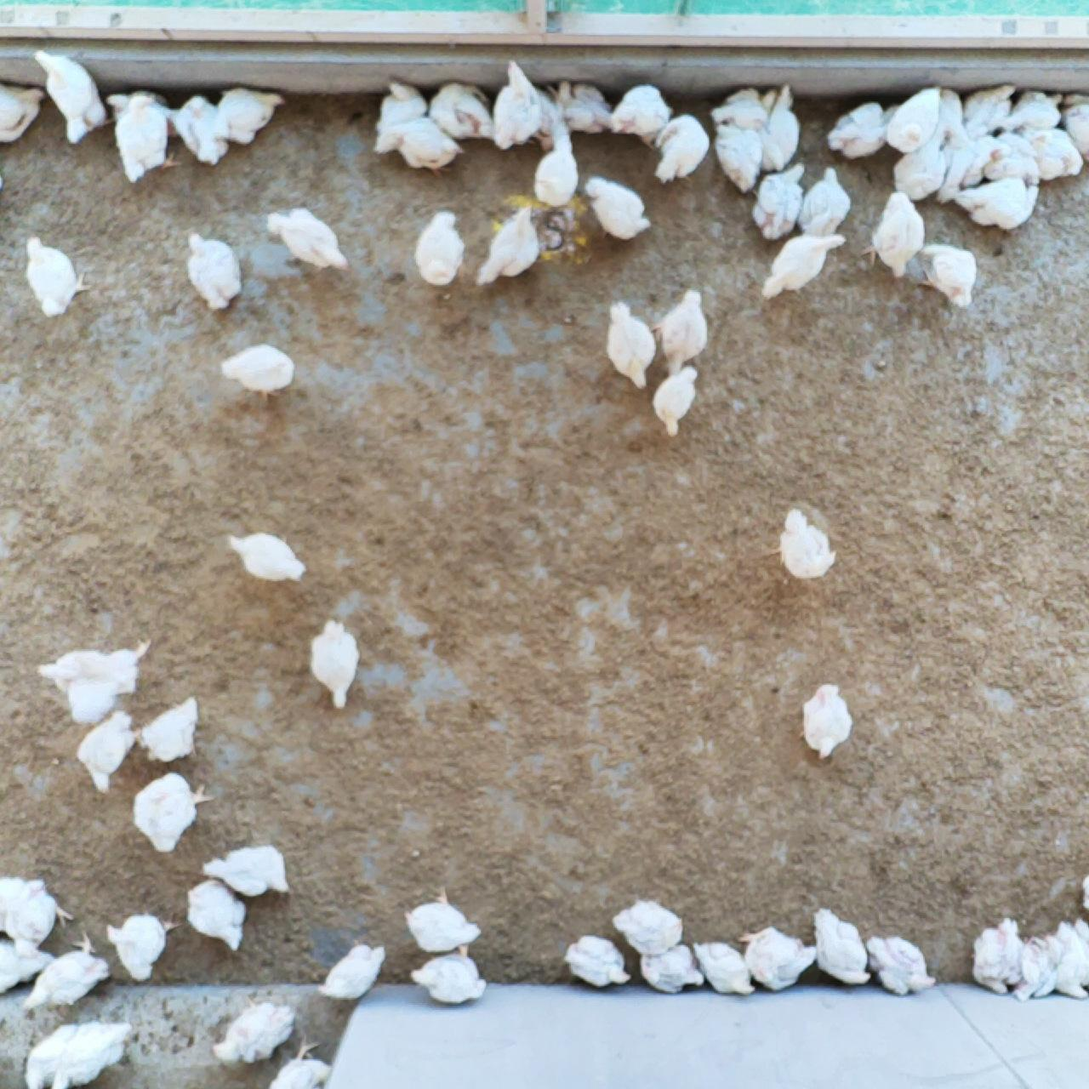chicken: (36, 634, 152, 726), (23, 928, 115, 1012), (32, 50, 109, 146), (132, 771, 214, 853), (0, 872, 74, 959), (210, 992, 297, 1065), (761, 229, 846, 303), (20, 232, 92, 319), (264, 204, 350, 276), (50, 1018, 134, 1089), (492, 58, 553, 154), (862, 189, 927, 279), (75, 710, 142, 796), (476, 203, 544, 287), (938, 133, 1009, 213), (113, 93, 176, 183), (403, 884, 481, 956), (794, 679, 860, 763), (737, 925, 819, 992), (409, 942, 492, 1008), (773, 509, 842, 586), (367, 76, 432, 157), (107, 911, 177, 986), (216, 341, 298, 405), (208, 83, 290, 147), (308, 618, 363, 713), (197, 845, 294, 898), (654, 288, 710, 379), (185, 232, 247, 314), (225, 529, 312, 585), (865, 935, 940, 999), (411, 207, 467, 291), (316, 936, 387, 1002), (135, 693, 201, 764), (969, 915, 1026, 996), (812, 907, 871, 985), (610, 895, 685, 956), (187, 877, 246, 954), (606, 301, 657, 390), (584, 175, 651, 242), (953, 178, 1039, 230), (753, 161, 808, 242), (603, 85, 674, 147), (425, 82, 496, 143), (172, 94, 232, 166), (893, 126, 949, 203), (756, 85, 805, 173), (799, 163, 854, 241), (650, 115, 711, 185), (916, 245, 982, 309), (532, 118, 577, 211), (710, 121, 767, 194), (267, 1029, 336, 1089), (386, 122, 466, 173), (563, 932, 631, 992), (650, 361, 700, 441), (886, 87, 943, 157), (104, 89, 180, 141), (24, 1019, 80, 1089), (692, 939, 757, 996), (1011, 929, 1063, 1000), (1018, 127, 1085, 182), (828, 99, 888, 159), (637, 943, 704, 995), (553, 80, 616, 135), (709, 85, 780, 132), (0, 76, 46, 148), (984, 131, 1043, 187), (961, 82, 1018, 139), (0, 936, 54, 995), (999, 87, 1064, 136), (1051, 920, 1088, 1000), (1059, 90, 1089, 164), (934, 86, 966, 138), (1072, 915, 1089, 985)
